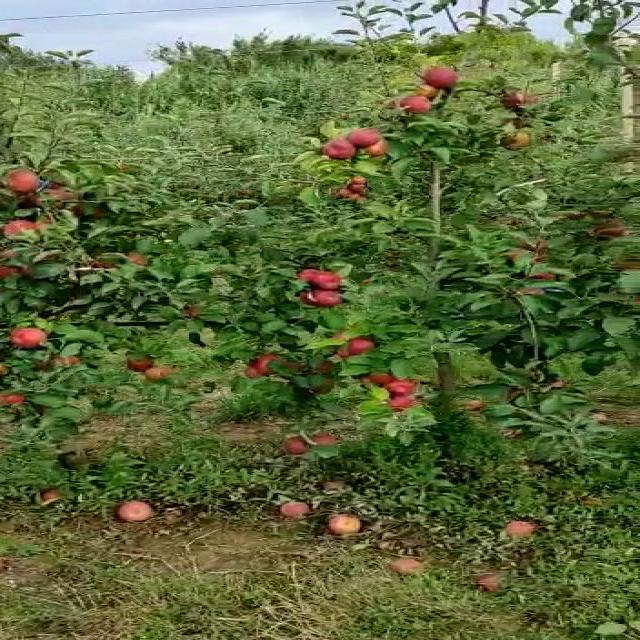100-_ripeness: (7, 324, 51, 351), (243, 353, 294, 375), (291, 266, 349, 284), (4, 169, 44, 193), (342, 124, 382, 146), (2, 221, 36, 246), (426, 62, 456, 89), (331, 339, 371, 359), (391, 95, 436, 110), (142, 362, 173, 383), (386, 379, 418, 398), (304, 290, 344, 304), (387, 397, 415, 417), (324, 142, 354, 159)
